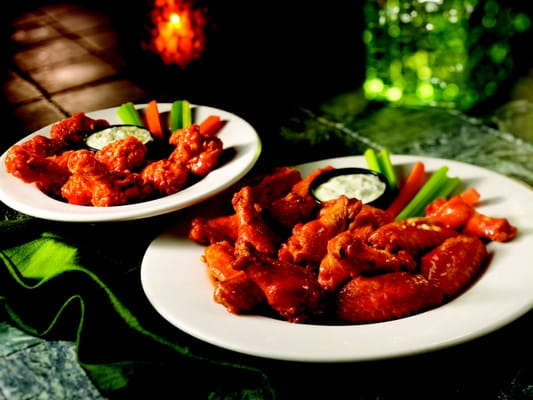curry: (1, 77, 532, 399)
